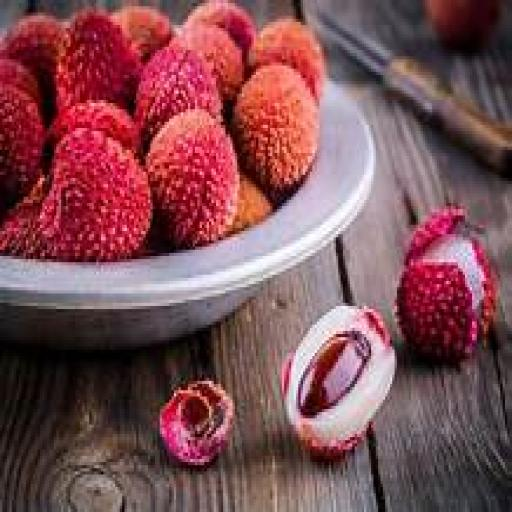lychee: (282, 306, 396, 458), (36, 128, 152, 262), (397, 210, 495, 362), (146, 110, 239, 246), (233, 66, 319, 196), (137, 44, 223, 146), (57, 10, 140, 112), (0, 13, 63, 118), (160, 381, 234, 465), (249, 19, 326, 99), (0, 85, 44, 206), (177, 25, 244, 103), (47, 100, 138, 152), (186, 0, 255, 56), (0, 178, 46, 259), (111, 7, 173, 62), (231, 175, 272, 234), (0, 57, 42, 106)
